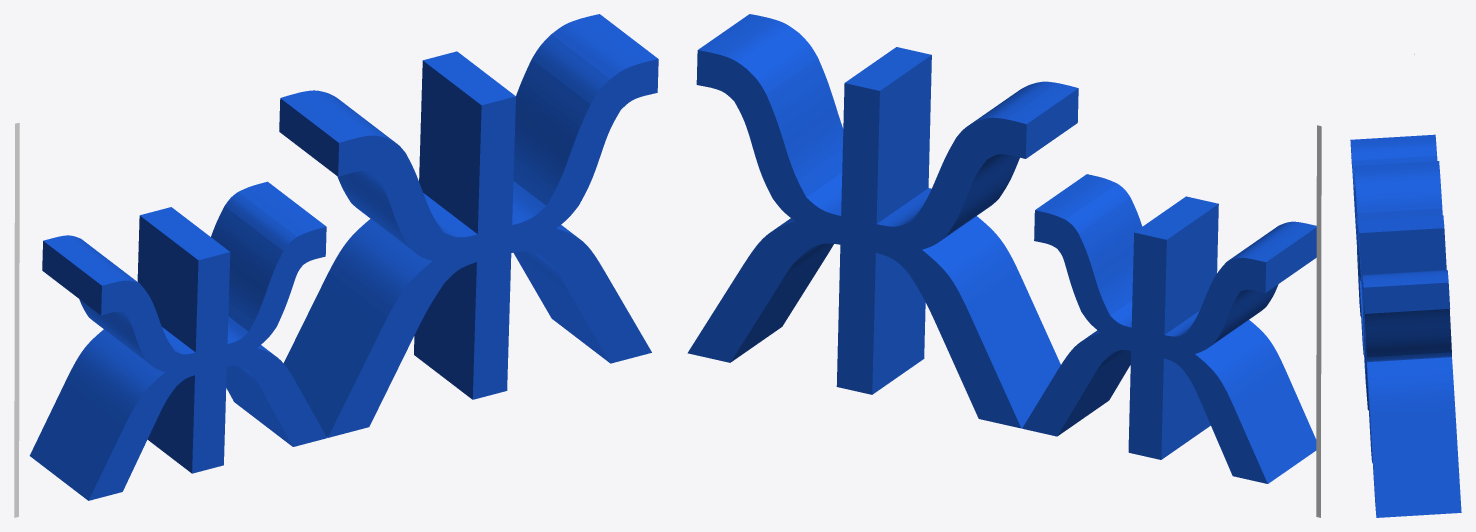
3 views of the same model, side by side, from view 1: azimuth 30°, elevation 25°; view 2: azimuth 150°, elevation 25°; view 3: azimuth 270°, elevation 25° (orthographic). The views are drawn at different scales.
Visible parts, largest first — view 1: Mesh_0.007, Плоскость; view 2: Mesh_0.007, Плоскость; view 3: Mesh_0.007.
Part boxes in pixels (x1,y1,x2,y2): Mesh_0.007: (29,14,658,500); Плоскость: (14,122,19,517); Mesh_0.007: (687,14,1316,483); Плоскость: (1316,125,1321,517); Mesh_0.007: (1350,134,1461,517).
Size of the model in its own units: 15.23 by 9.38 by 3.13.
